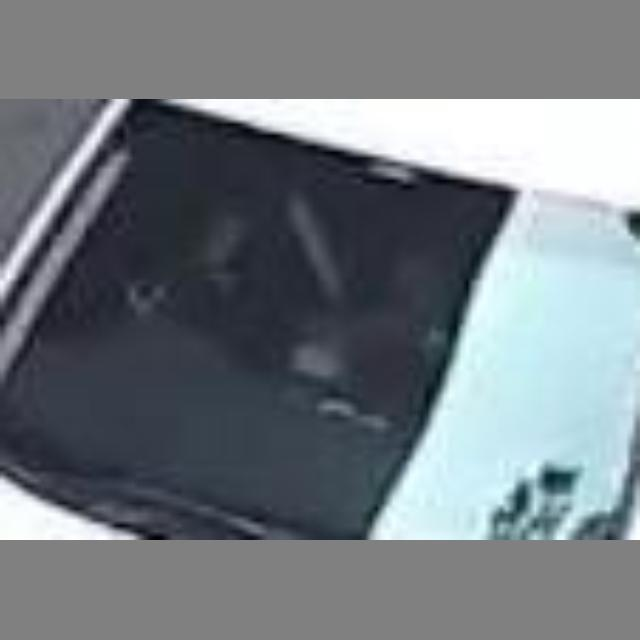pakai: (187, 133, 425, 394)
